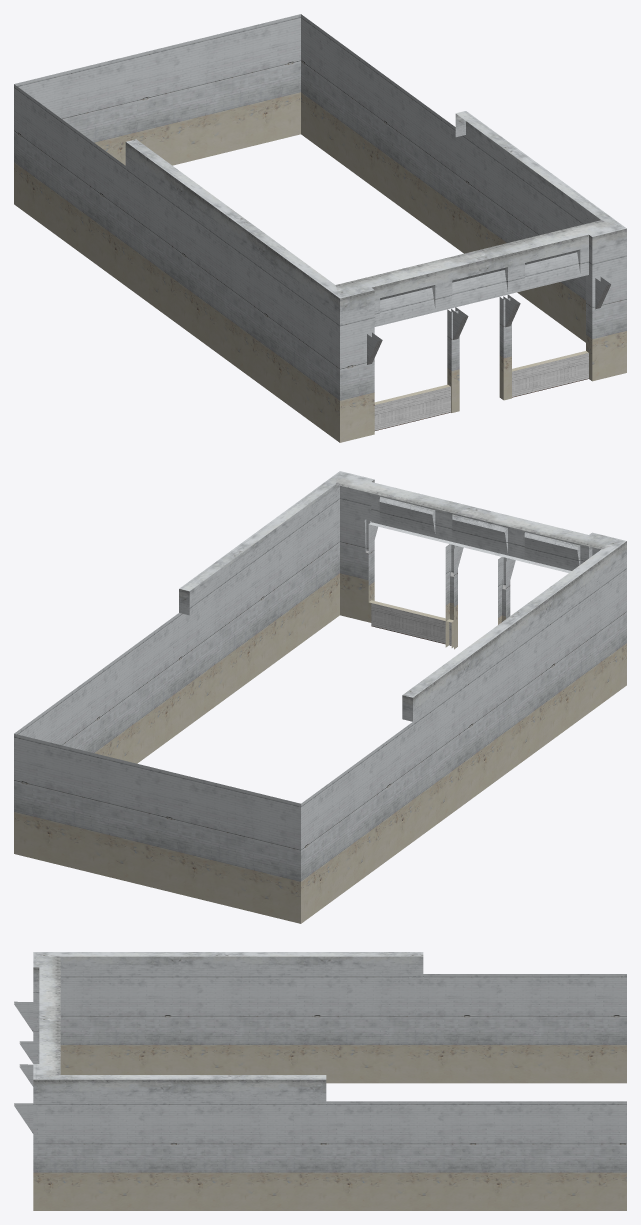
File: rural_storesmall_3_rural_midcity_walls_flr_1_0_lev2.glb
The picture shows the model from 3 angles, top to bottom: view 1: azimuth 30°, elevation 25°; view 2: azimuth 150°, elevation 25°; view 3: azimuth 270°, elevation 25°; orthographic projection. The views are drawn at different scales.
Parts seen in each view (by area): view 1: rural_storesmall_3_rural_midcity_walls_flr_1_0_lev2; view 2: rural_storesmall_3_rural_midcity_walls_flr_1_0_lev2; view 3: rural_storesmall_3_rural_midcity_walls_flr_1_0_lev2.
Part boxes in pixels (bbox=[...]): rural_storesmall_3_rural_midcity_walls_flr_1_0_lev2: bbox=[14, 14, 626, 442]; rural_storesmall_3_rural_midcity_walls_flr_1_0_lev2: bbox=[14, 471, 626, 923]; rural_storesmall_3_rural_midcity_walls_flr_1_0_lev2: bbox=[14, 952, 626, 1210].
Bounding box in the file's own units: 4.48 × 2.15 × 9.09.
Materials: 1 (1 with a texture image).
